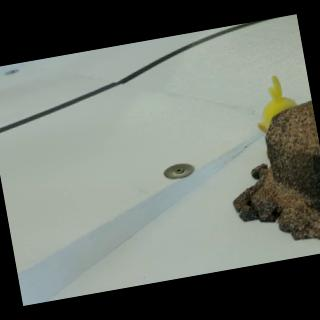teletubby: (258, 76, 296, 133)
